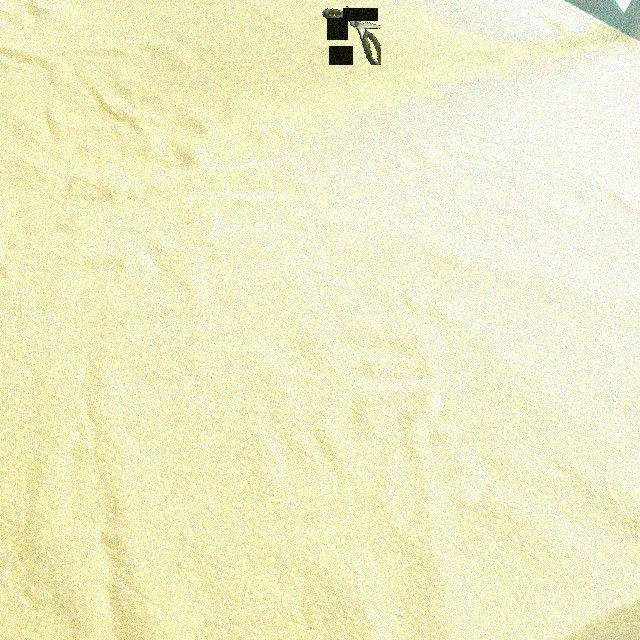scissors: (322, 6, 381, 65)
